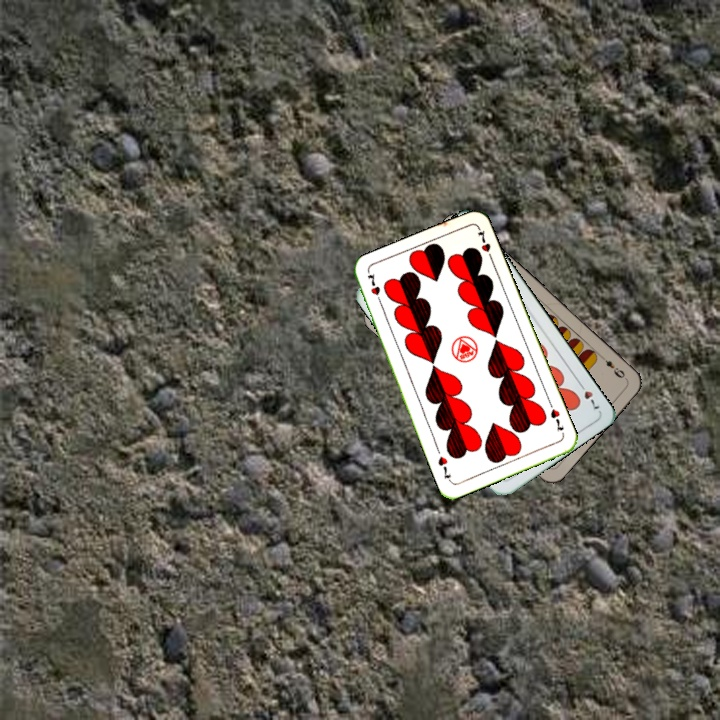E9: (596, 351, 629, 382)
H7: (574, 377, 602, 412), (363, 270, 385, 308), (545, 398, 566, 434)
